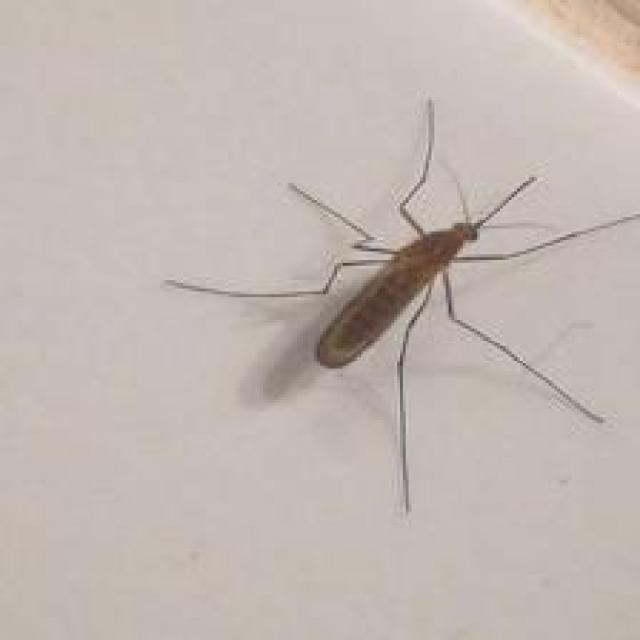Culex: (163, 93, 640, 516)
